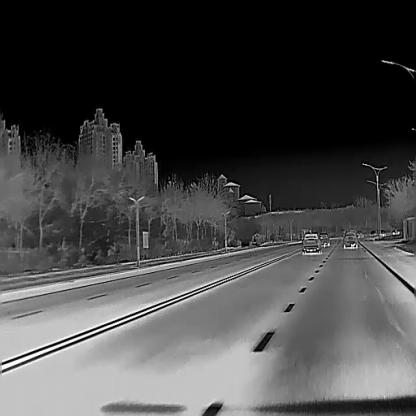car: (301, 232, 321, 254), (342, 230, 358, 249), (318, 232, 330, 247), (356, 230, 364, 238), (368, 230, 376, 236)
